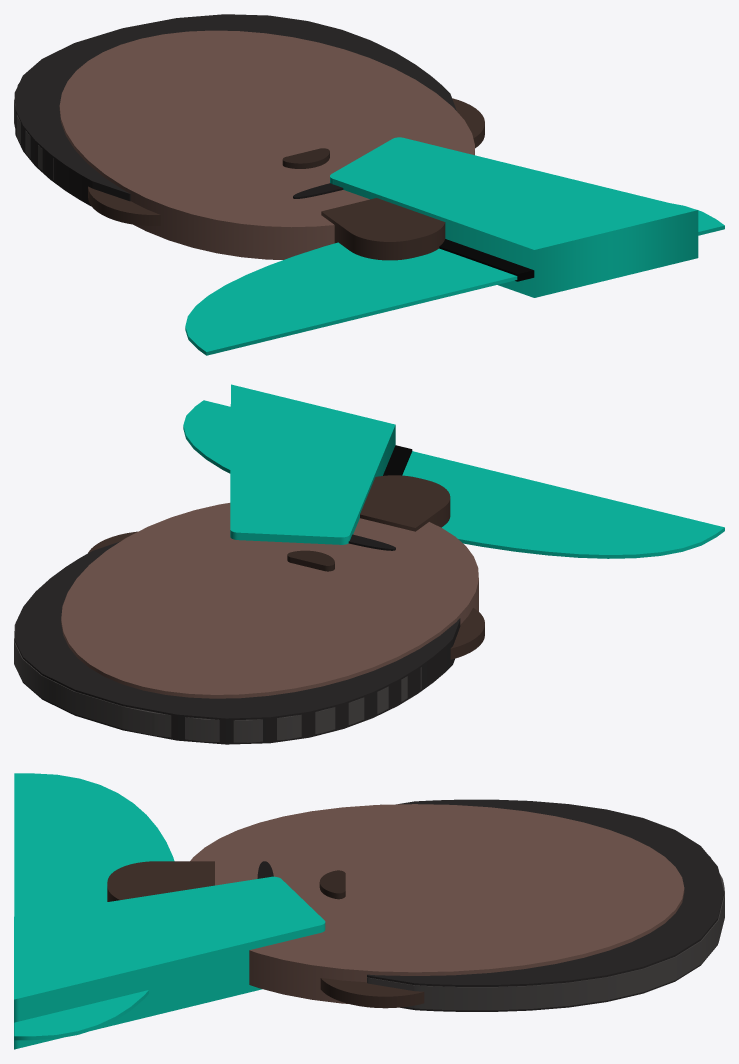
File: emoji_u1f926_1f3ff_200d_2642.glb
3 renders of one model, top to bottom at view 1: azimuth 30°, elevation 25°; view 2: azimuth 150°, elevation 25°; view 3: azimuth 270°, elevation 25°, orthographic. The views are drawn at different scales.
Visible parts, largest first — view 1: emoji_u1f926_1f3ff_200d_2642; view 2: emoji_u1f926_1f3ff_200d_2642; view 3: emoji_u1f926_1f3ff_200d_2642.
Boxes of the visible parts, x1,y1,x2,y2 form: emoji_u1f926_1f3ff_200d_2642: (14,14,724,355); emoji_u1f926_1f3ff_200d_2642: (14,384,724,744); emoji_u1f926_1f3ff_200d_2642: (14,773,724,1049).
Size of the model in its own units: 0.0294 by 0.0026 by 0.0335.
